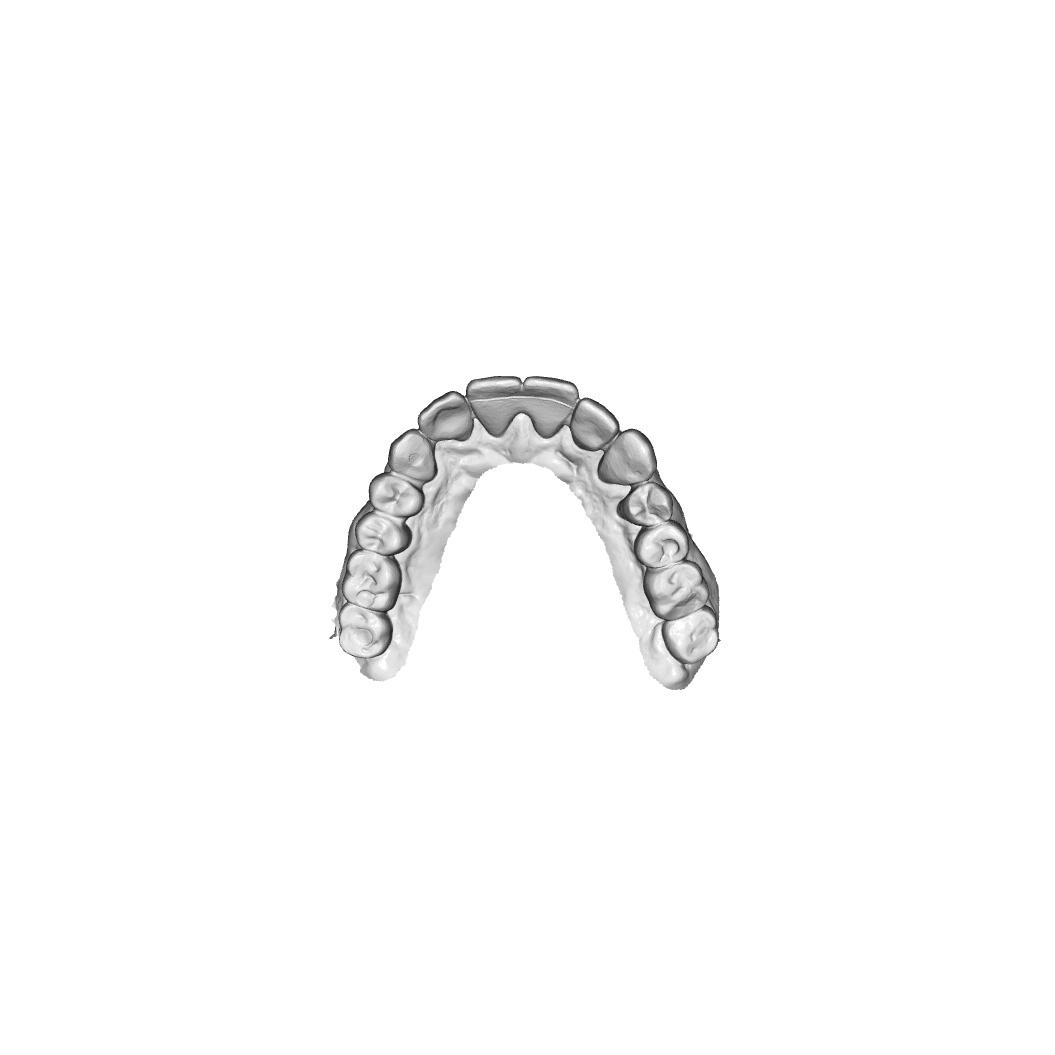canine: (596, 428, 658, 487), (387, 428, 439, 482)
incisor: (465, 375, 523, 439), (523, 375, 580, 440), (417, 390, 470, 443), (569, 397, 620, 452)
molar: (642, 559, 710, 622), (341, 548, 402, 613), (661, 604, 719, 665), (337, 603, 394, 660)
premolar: (632, 519, 690, 569), (354, 509, 413, 557), (368, 471, 425, 519), (616, 481, 675, 527)
